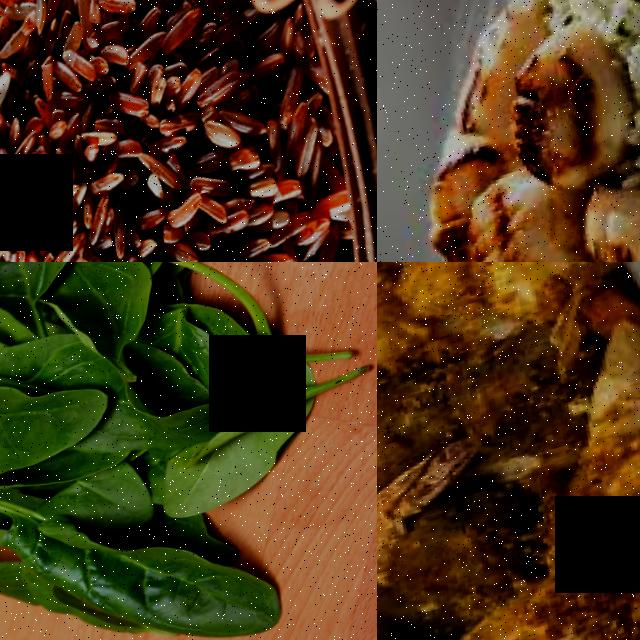red rice: (0, 0, 377, 262)
sea scallops: (484, 20, 640, 192), (456, 169, 609, 262), (571, 173, 640, 262)
spinach: (88, 510, 308, 640), (0, 348, 134, 494), (46, 262, 171, 353), (50, 457, 175, 543)
